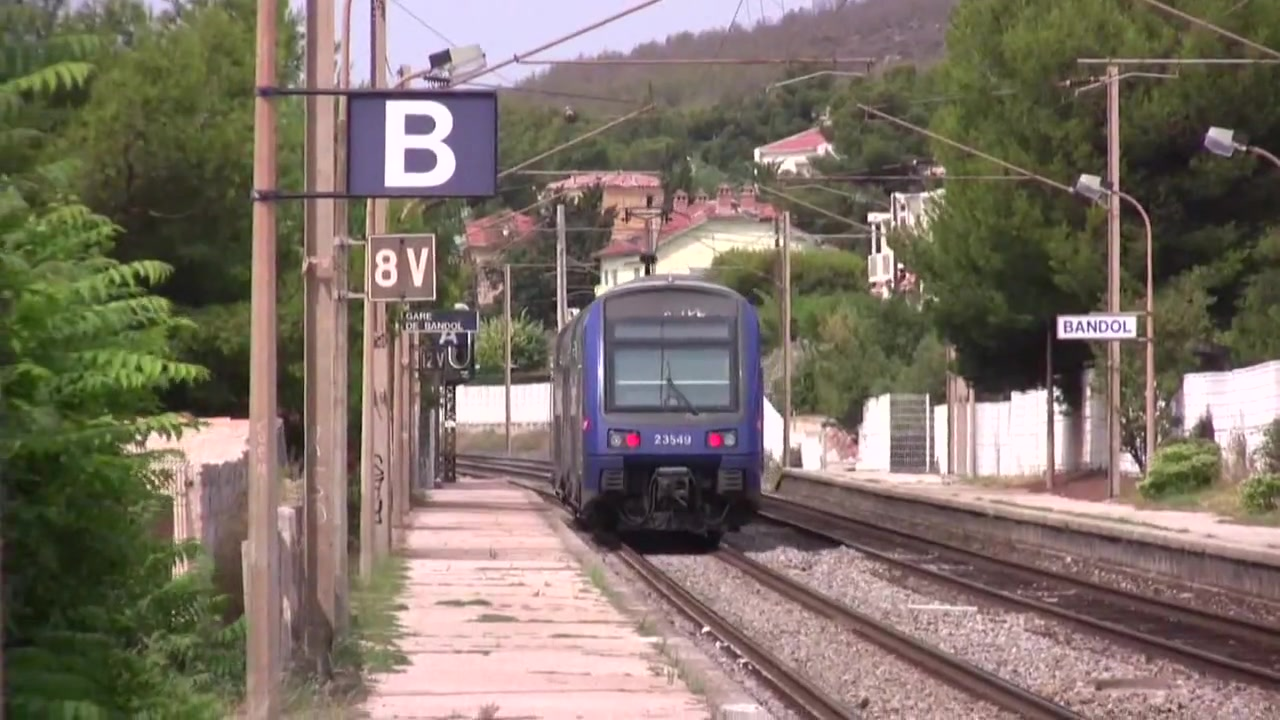train: (547, 275, 767, 551)
